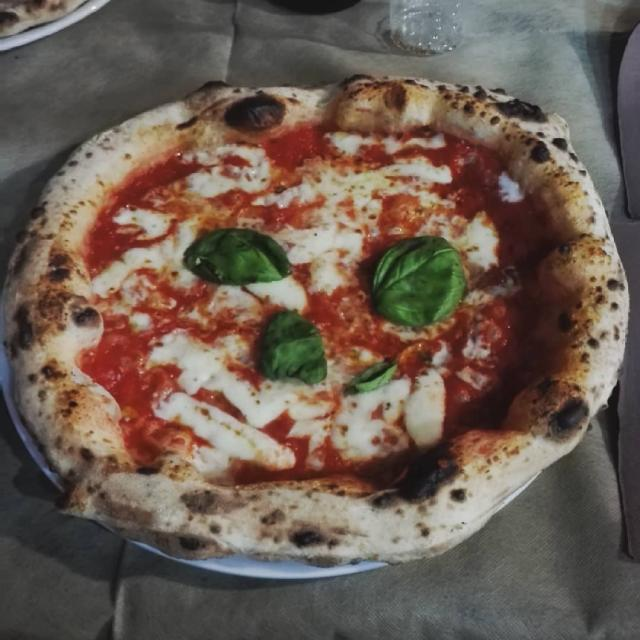basil: (368, 234, 466, 330), (184, 225, 292, 287), (258, 308, 328, 389), (347, 357, 398, 392)
pizza: (3, 78, 630, 564)
